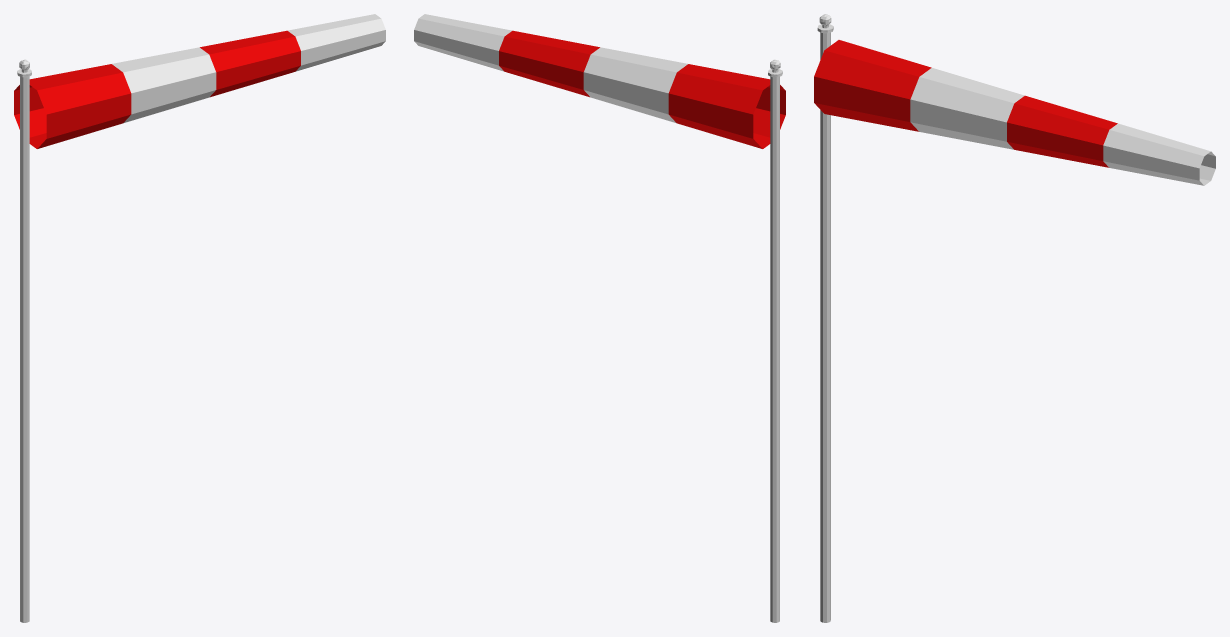
File: Wind sock.glb
3 renders of one model, left to right at view 1: azimuth 30°, elevation 25°; view 2: azimuth 150°, elevation 25°; view 3: azimuth 330°, elevation 25°, orthographic. The views are drawn at different scales.
Visible parts, largest first — view 1: section1, pole, section2, section3, section4; view 2: section1, pole, section2, section3, section4; view 3: section1, section2, pole, section3, section4.
Part boxes in pixels (box(x1,y1,x2,y2)): section1: box(14, 64, 131, 148); pole: box(17, 59, 31, 622); section2: box(112, 47, 216, 123); section3: box(200, 30, 300, 97); section4: box(288, 14, 385, 71); section1: box(668, 64, 785, 148); pole: box(768, 59, 782, 622); section2: box(583, 47, 687, 123); section3: box(499, 30, 599, 97); section4: box(414, 14, 511, 71); section1: box(814, 40, 931, 131); section2: box(910, 68, 1024, 149); pole: box(817, 14, 833, 622); section3: box(1007, 95, 1117, 167); section4: box(1103, 123, 1215, 185).
Size of the model in its own units: 4.12 by 6.12 by 0.6429.
